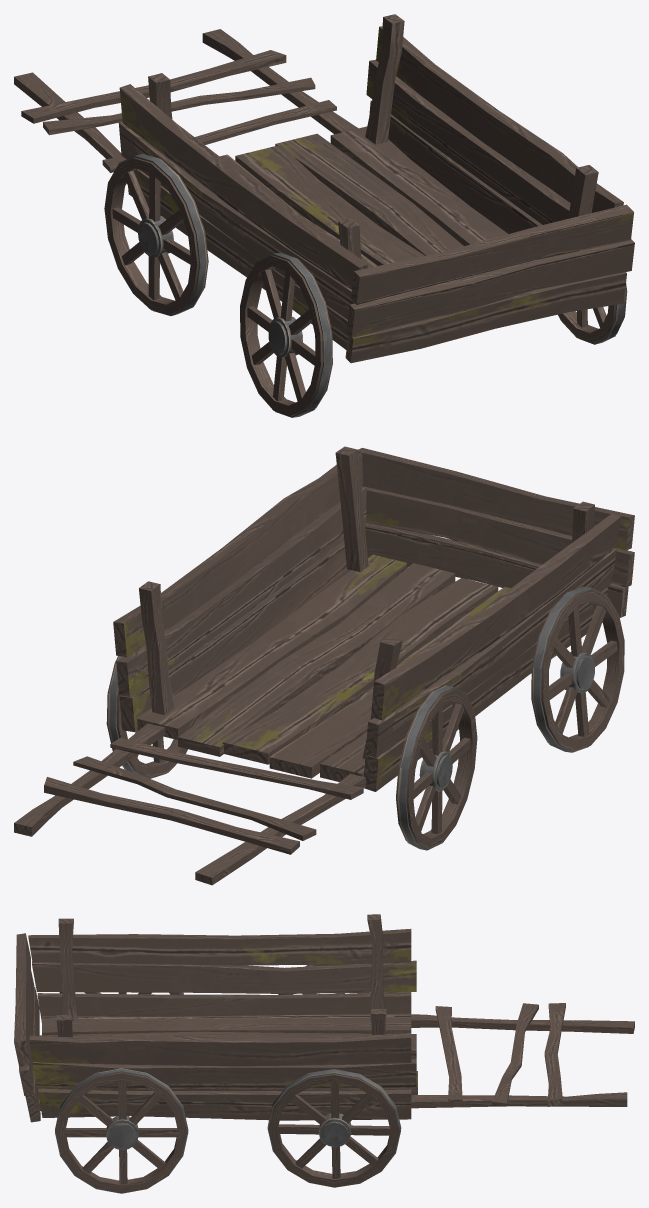
File: SM_BoxWagon.fbx
3 renders of one model, top to bottom at view 1: azimuth 30°, elevation 25°; view 2: azimuth 150°, elevation 25°; view 3: azimuth 270°, elevation 25°, orthographic. The views are drawn at different scales.
Visible parts, largest first — view 1: SM_BoxWagon; view 2: SM_BoxWagon; view 3: SM_BoxWagon.
Boxes of the visible parts, x1,y1,x2,y2 form: SM_BoxWagon: (14, 14, 634, 417); SM_BoxWagon: (14, 446, 634, 885); SM_BoxWagon: (14, 914, 634, 1193).
Bounding box in the file's own units: 71.92 × 45.81 × 151.
